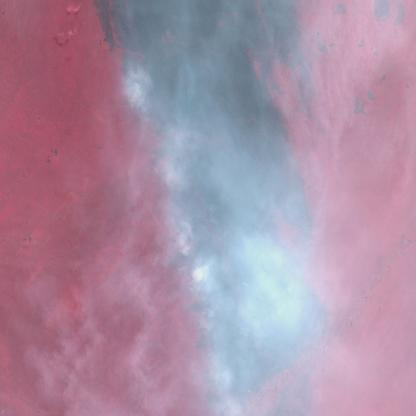fire: (121, 61, 242, 416)
